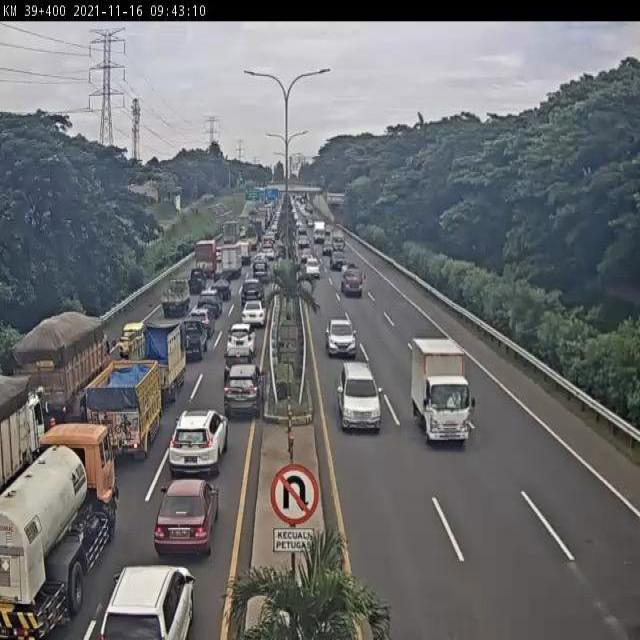car: (156, 478, 220, 558), (171, 409, 229, 476), (336, 361, 382, 431), (223, 365, 266, 420), (324, 318, 359, 358), (223, 347, 255, 382), (226, 322, 257, 358), (182, 319, 208, 361), (240, 298, 266, 330), (121, 323, 147, 352), (188, 309, 215, 335), (196, 291, 222, 316)
truck-m-: (0, 421, 117, 640), (12, 315, 110, 424), (0, 378, 45, 498)
truck-s-: (88, 359, 163, 461), (412, 339, 472, 445), (128, 320, 187, 400), (160, 279, 191, 317), (342, 267, 364, 296)
